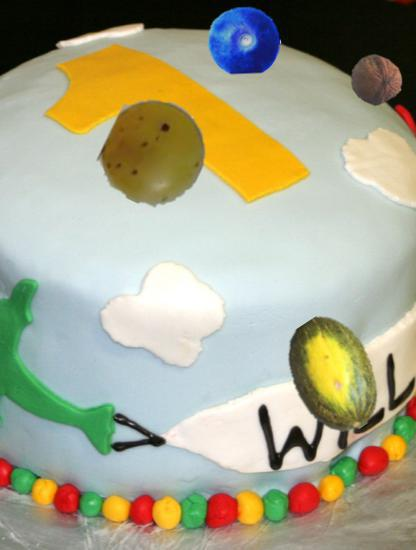Grape: (102, 100, 208, 206)
Huckleberry: (208, 4, 281, 77)
Melon: (274, 316, 393, 435)
Walnut: (350, 54, 403, 107)
